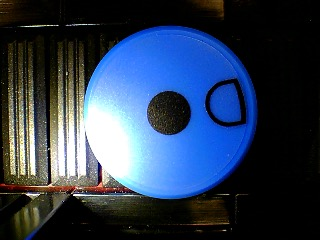BOHOMIPO1: (83, 26, 258, 200)
